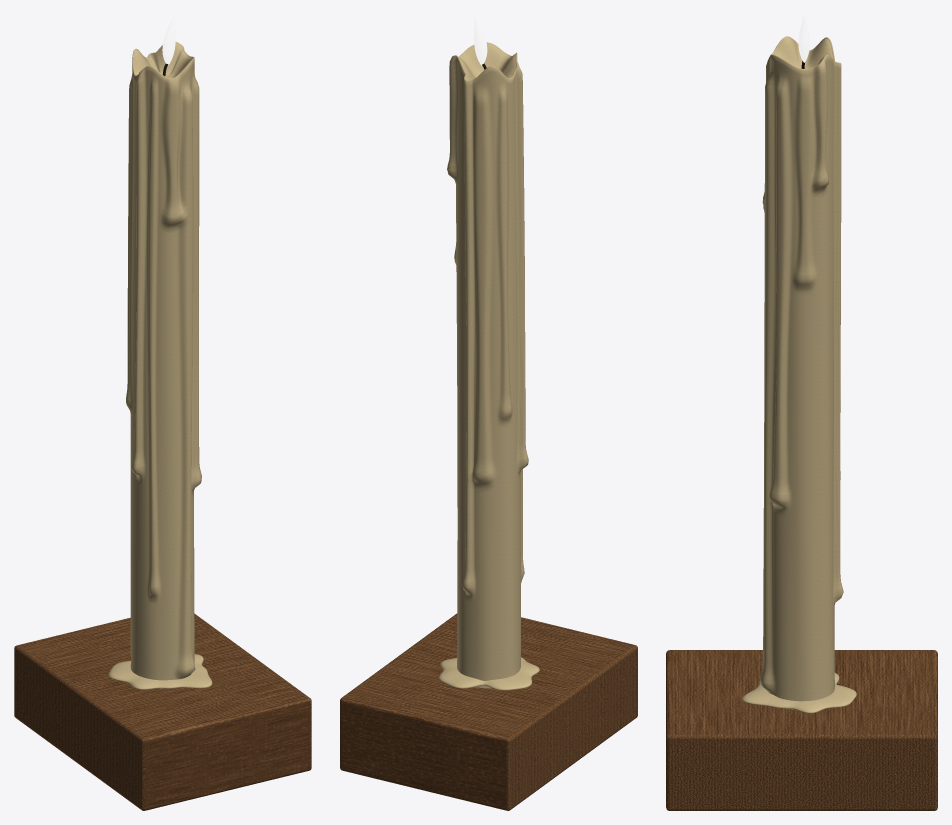
The model's file is cirio_3.gltf.
3 views of the same model, side by side, from view 1: azimuth 30°, elevation 25°; view 2: azimuth 150°, elevation 25°; view 3: azimuth 270°, elevation 25° (orthographic). The views are drawn at different scales.
Parts seen in each view (by area): view 1: cera_3, base_madera_individual, cera_acumulada_3; view 2: cera_3, base_madera_individual, cera_acumulada_3; view 3: cera_3, base_madera_individual, cera_acumulada_3.
Part boxes in pixels (bbox=[...]): cera_3: bbox=[126, 42, 201, 688]; base_madera_individual: bbox=[14, 613, 311, 810]; cera_acumulada_3: bbox=[108, 654, 212, 689]; cera_3: bbox=[447, 42, 528, 688]; base_madera_individual: bbox=[340, 613, 637, 810]; cera_acumulada_3: bbox=[439, 657, 539, 690]; cera_3: bbox=[759, 36, 843, 709]; base_madera_individual: bbox=[666, 650, 937, 810]; cera_acumulada_3: bbox=[742, 672, 856, 713].
Size of the model in its own units: 0.11 by 0.448 by 0.145.
4 materials, 2 textured.
